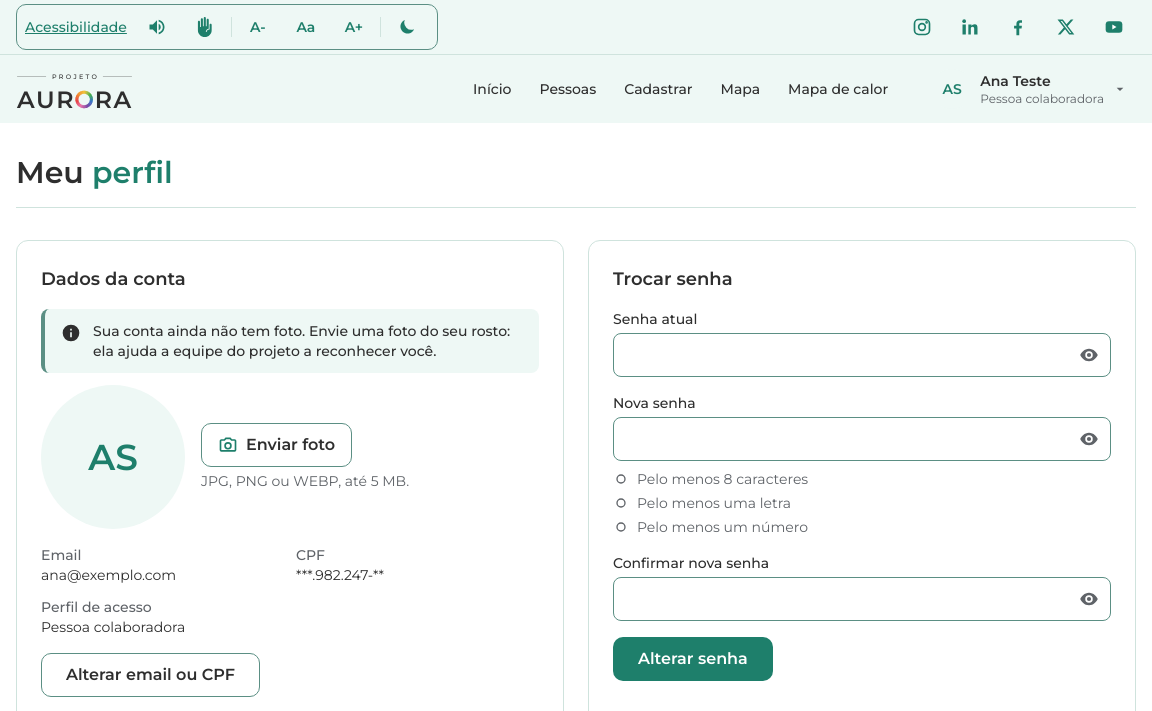
Meu perfil: alterar email ou CPF › valida o popup: precisa de algo para trocar e da senha
Click the button "Alterar email ou CPF" at (150, 675), box [41,653,260,697]
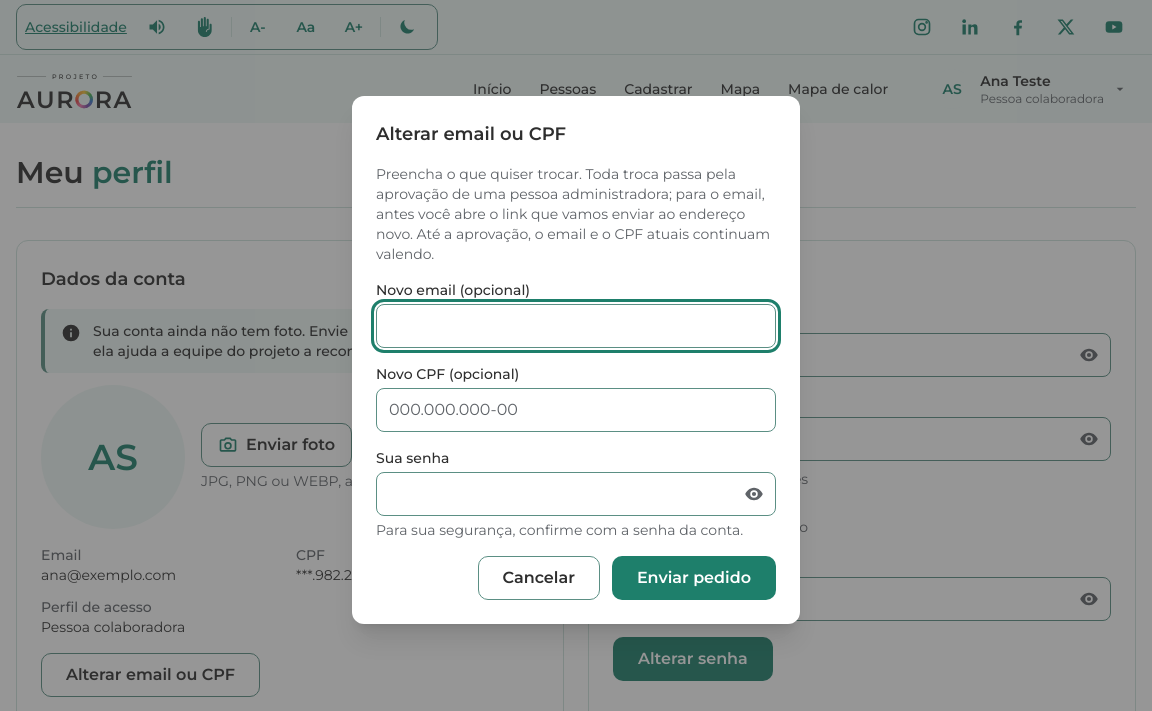
Click the button "Enviar pedido" at (694, 578), box [612,556,776,600]
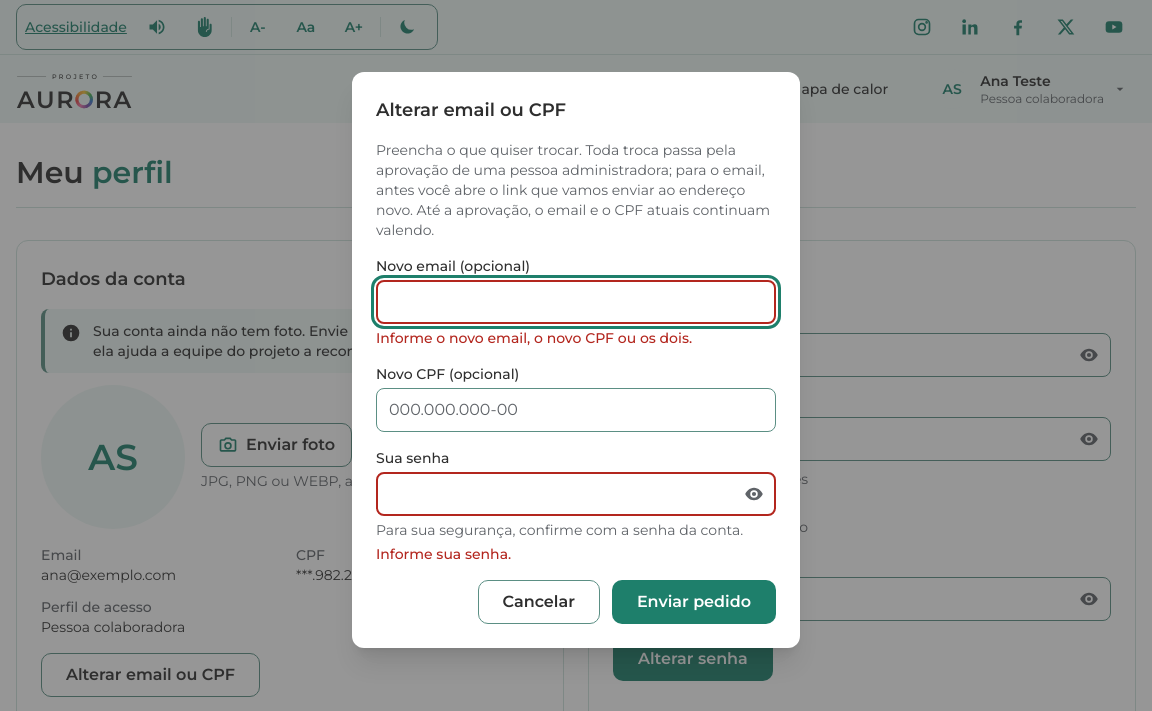
Result: the text "Informe o novo email, o novo CPF ou os dois." is shown at [376,329,692,347]
Result: the text "Informe sua senha." is shown at [376,545,511,563]
